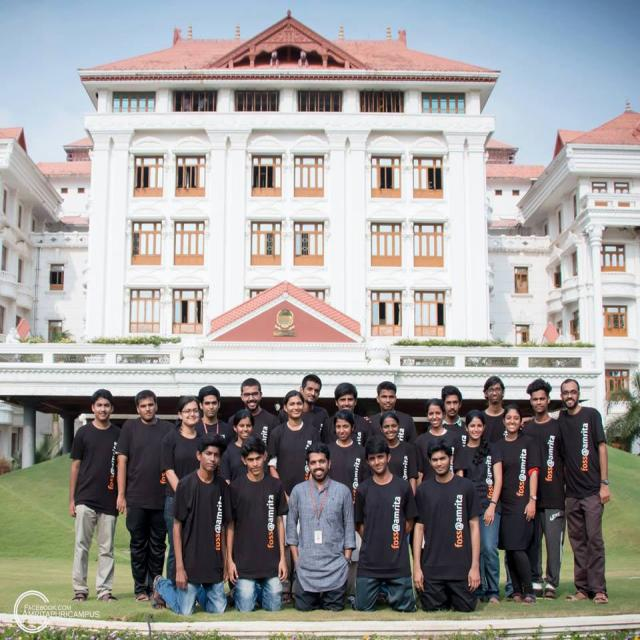body: (150, 432, 230, 617), (113, 388, 181, 602), (406, 434, 482, 616), (552, 377, 612, 604), (350, 434, 421, 616), (283, 441, 358, 612), (66, 386, 123, 606), (267, 388, 324, 603), (224, 434, 289, 614), (467, 374, 514, 600), (453, 407, 505, 608), (519, 377, 565, 600), (493, 404, 540, 606), (323, 407, 368, 599), (161, 395, 204, 592), (414, 396, 466, 486), (219, 408, 270, 488), (227, 377, 282, 451), (373, 410, 418, 499), (362, 380, 418, 449), (320, 382, 374, 448), (279, 373, 330, 432), (194, 385, 235, 446), (440, 385, 470, 449)
